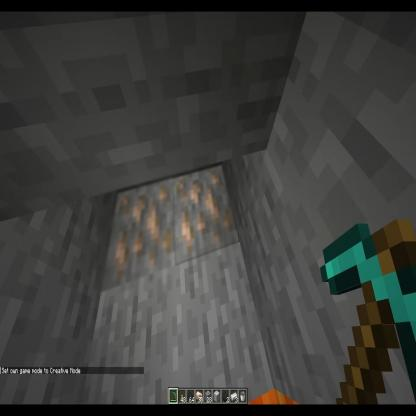iron ore: (98, 172, 173, 296), (173, 164, 238, 269)
